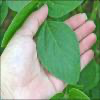Soyabean leaf: (37, 20, 81, 85)
